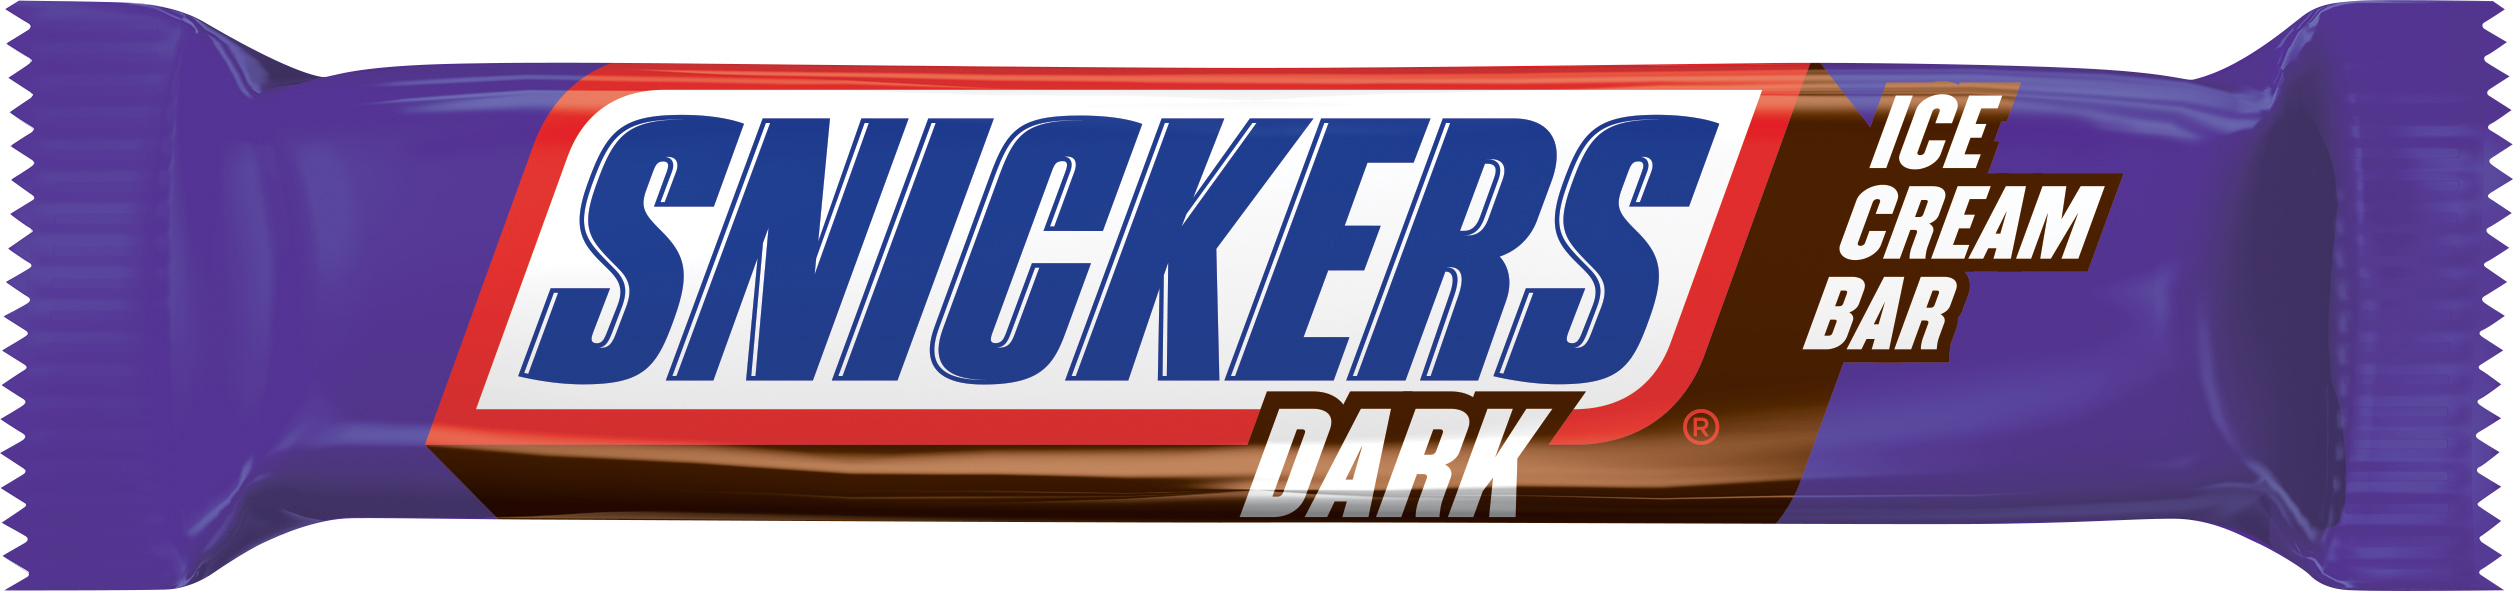snickers: (505, 99, 1724, 392)
